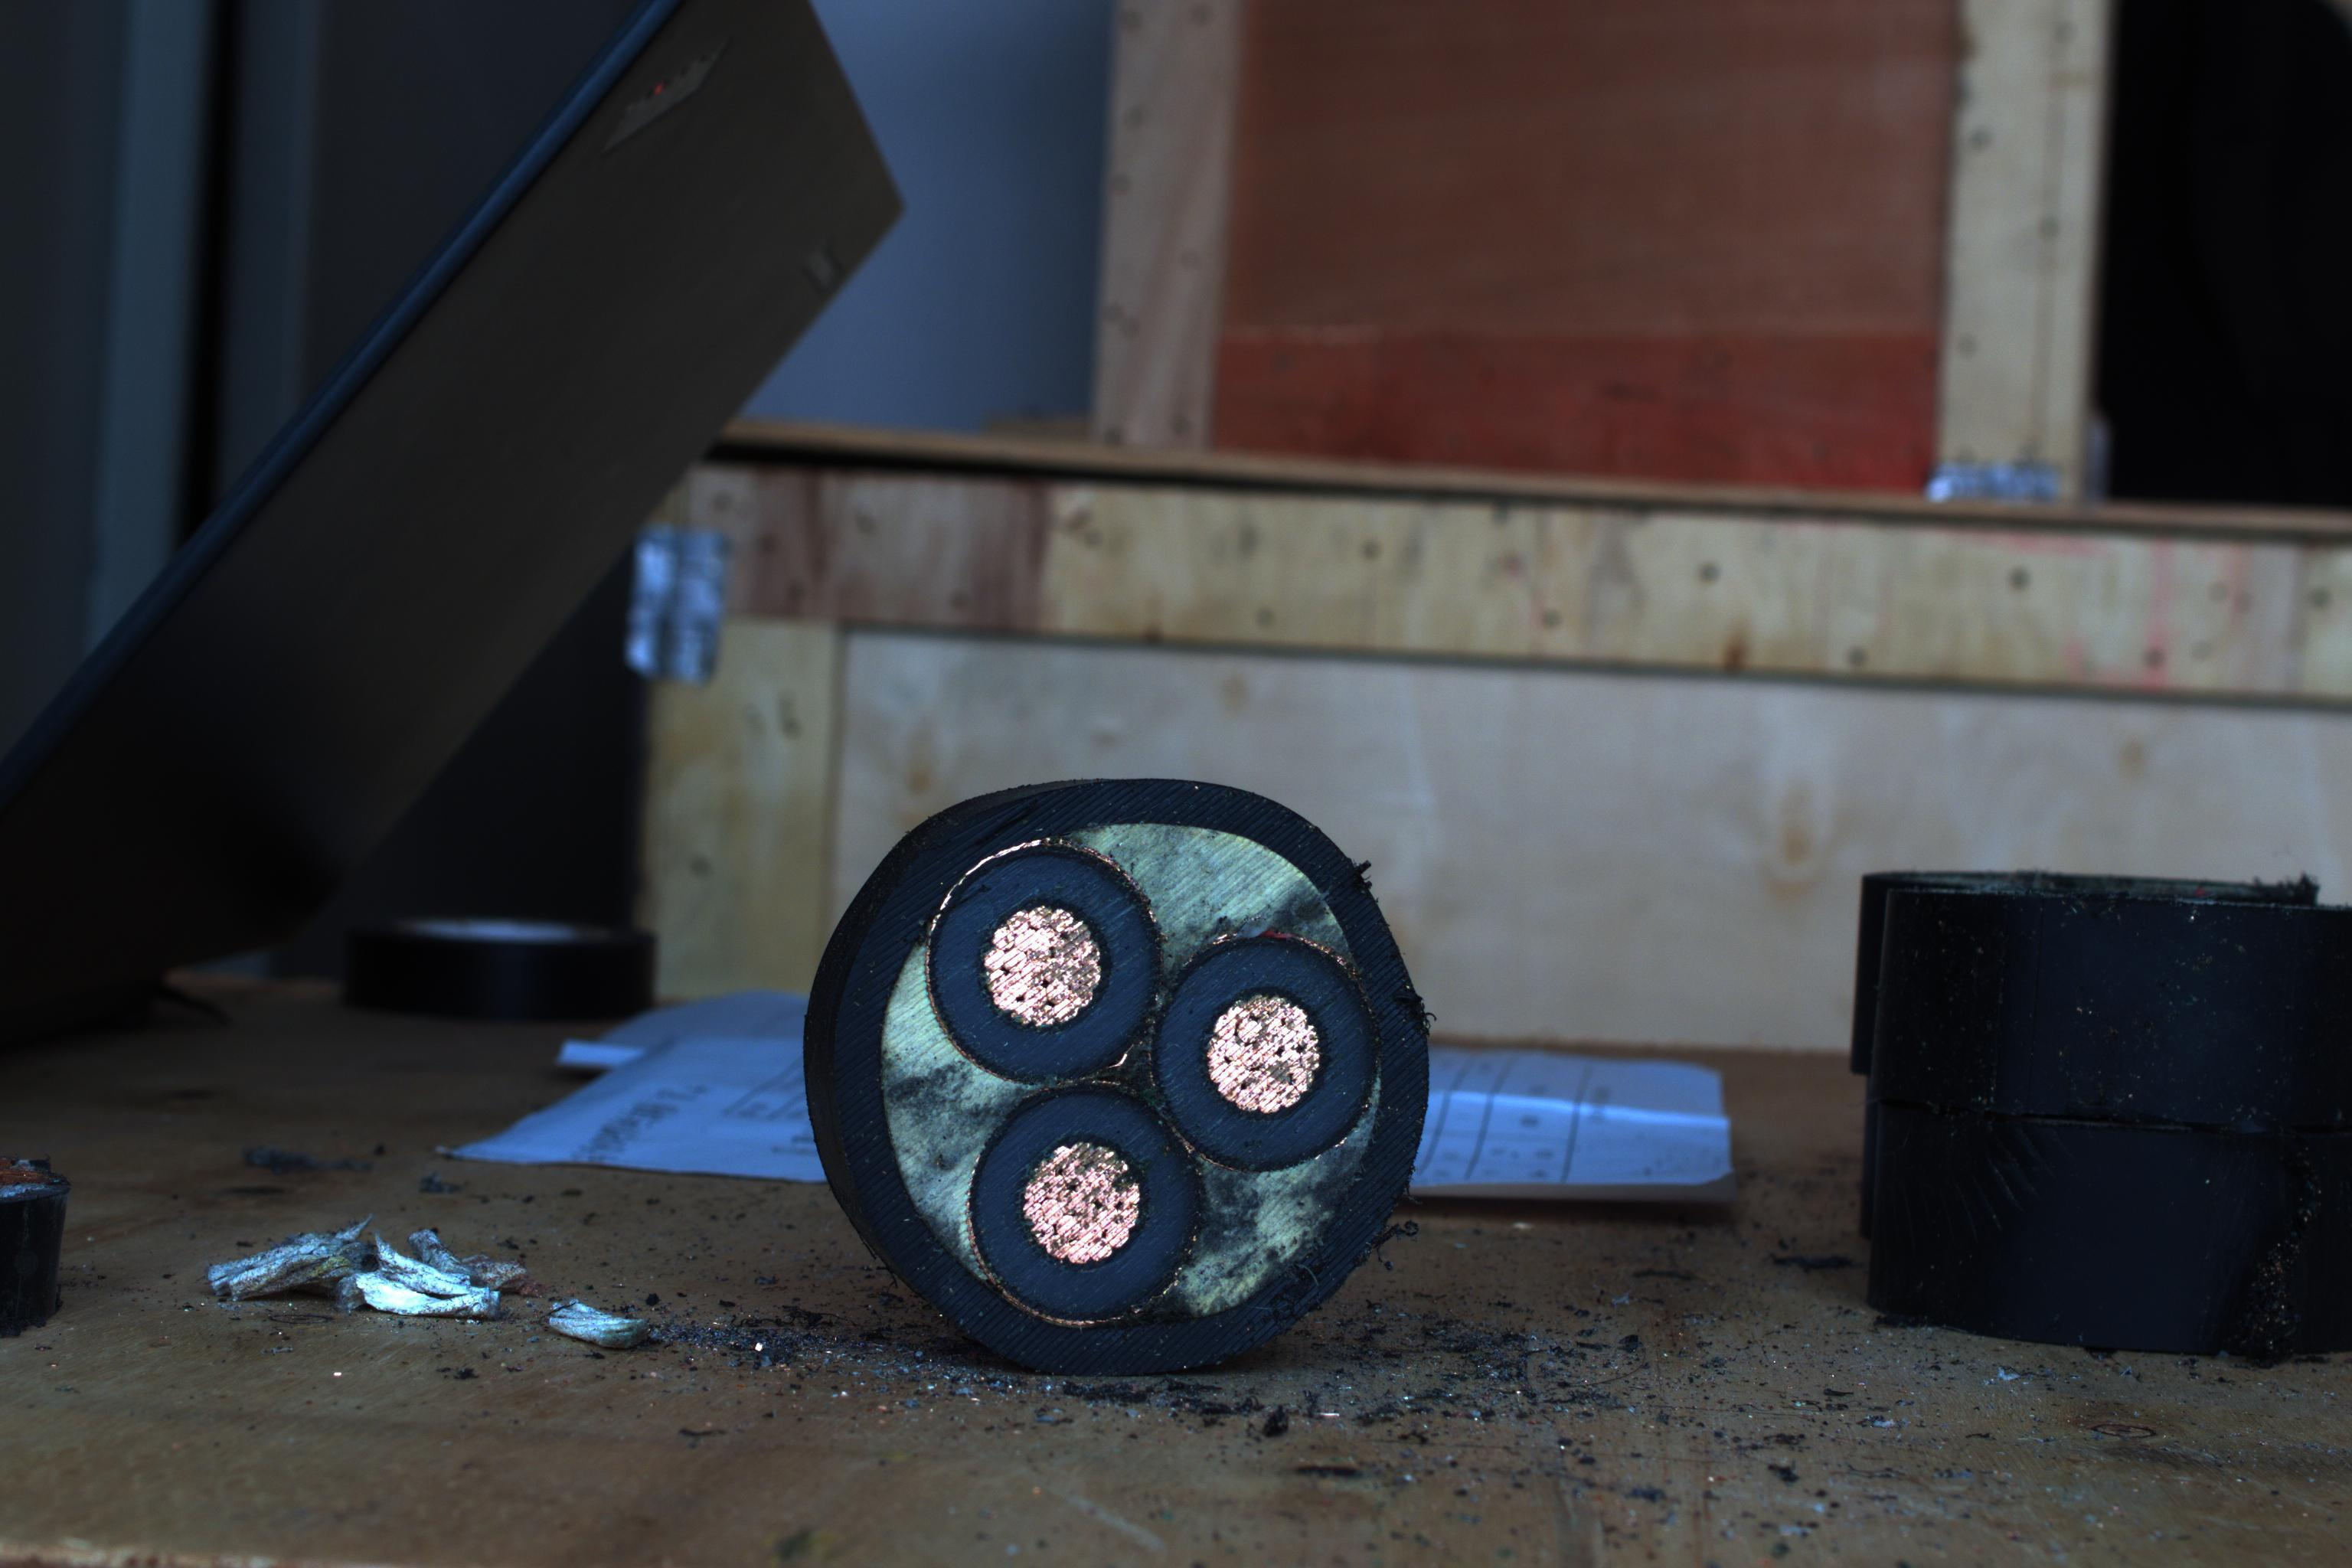ZA_YJV_8.7_10kV_3x120: (864, 786, 1431, 1346)
